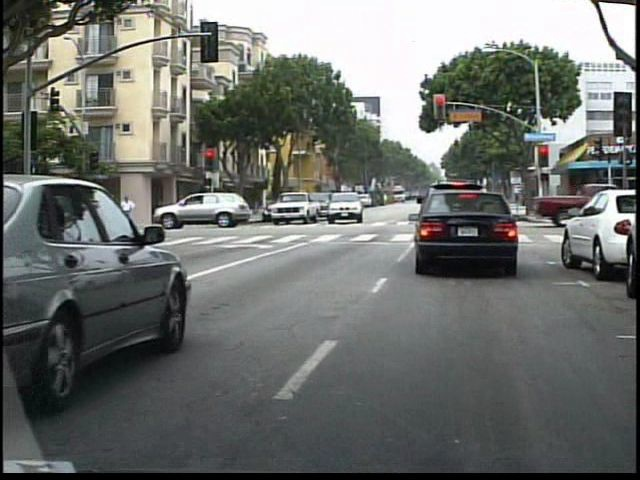person: (118, 192, 129, 233), (104, 191, 115, 214)
